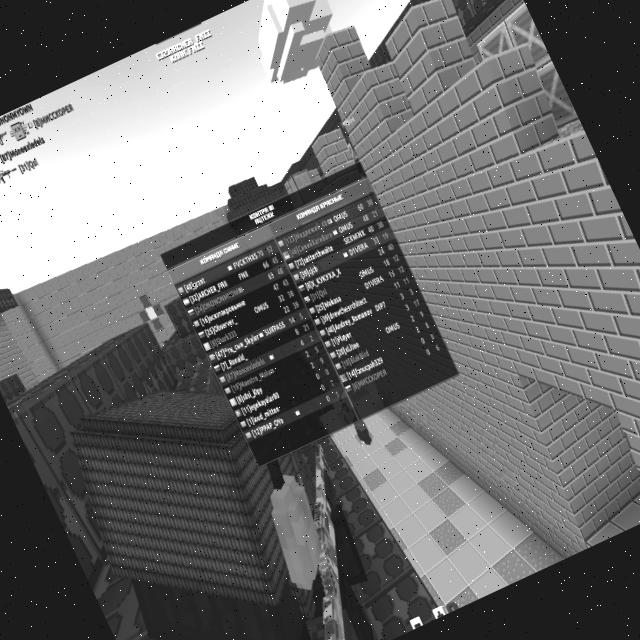Head: (166, 174, 460, 466), (47, 355, 344, 640)
Player: (32, 306, 417, 640)
